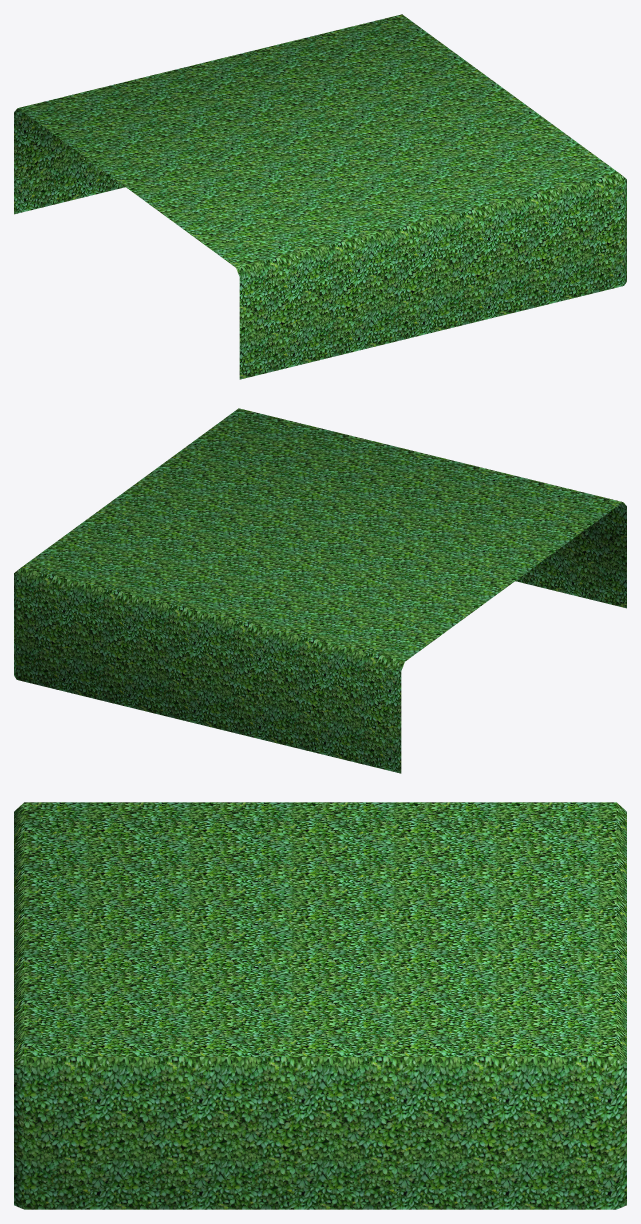
Rendered from Hedge02a.FBX.
3 views of the same model, one above another, from view 1: azimuth 30°, elevation 25°; view 2: azimuth 150°, elevation 25°; view 3: azimuth 270°, elevation 25° (orthographic). The views are drawn at different scales.
Parts seen in each view (by area): view 1: Hedge02a; view 2: Hedge02a; view 3: Hedge02a.
Boxes of the visible parts, x1,y1,x2,y2 form: Hedge02a: (14,14,626,379); Hedge02a: (14,408,626,773); Hedge02a: (14,802,626,1209).
Bounding box in the file's own units: 300 × 80 × 300.
1 material, 1 textured.
